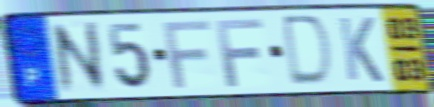5: (106, 20, 154, 92)
D: (282, 13, 335, 90)
F: (160, 18, 214, 91), (213, 17, 266, 90)
K: (335, 14, 386, 85)
N: (47, 18, 110, 97)
